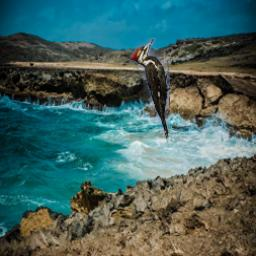Woodpecker: (130, 39, 170, 145)
